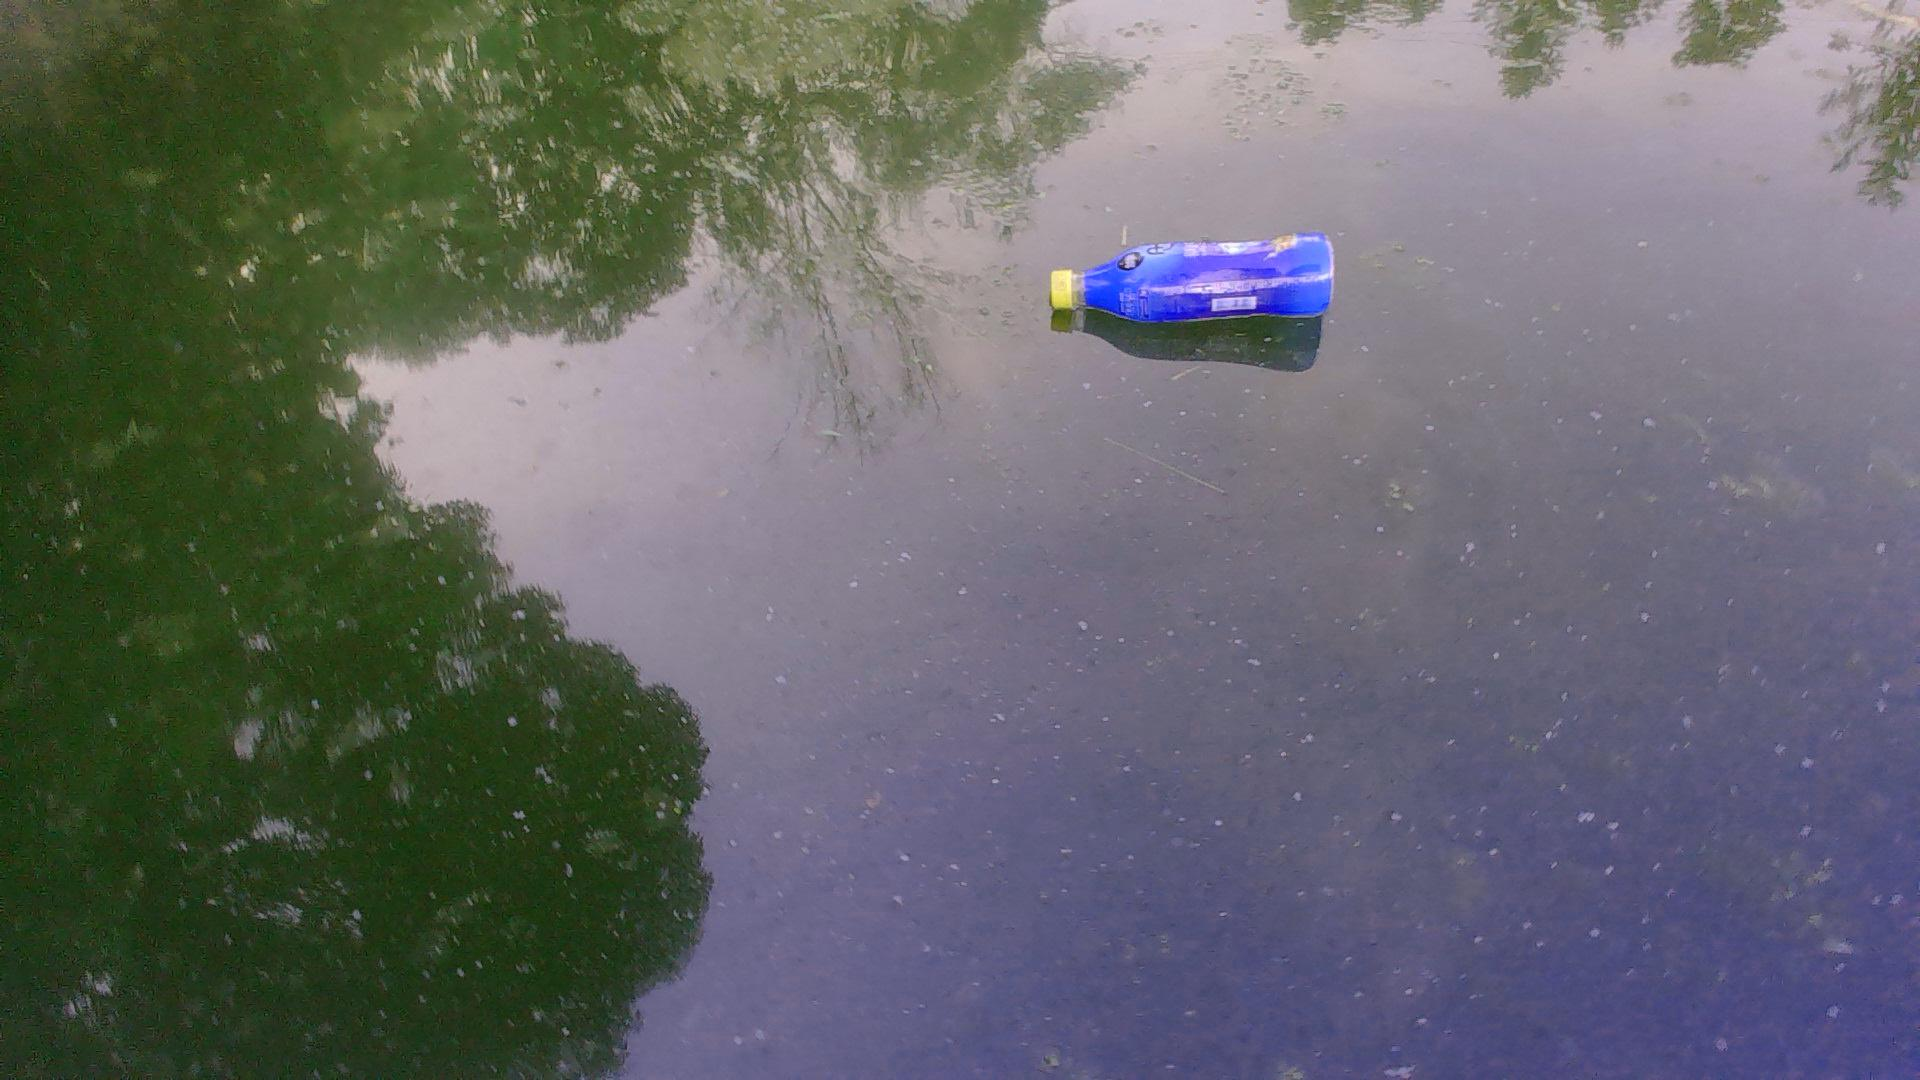Plastic: (1044, 222, 1338, 340)
